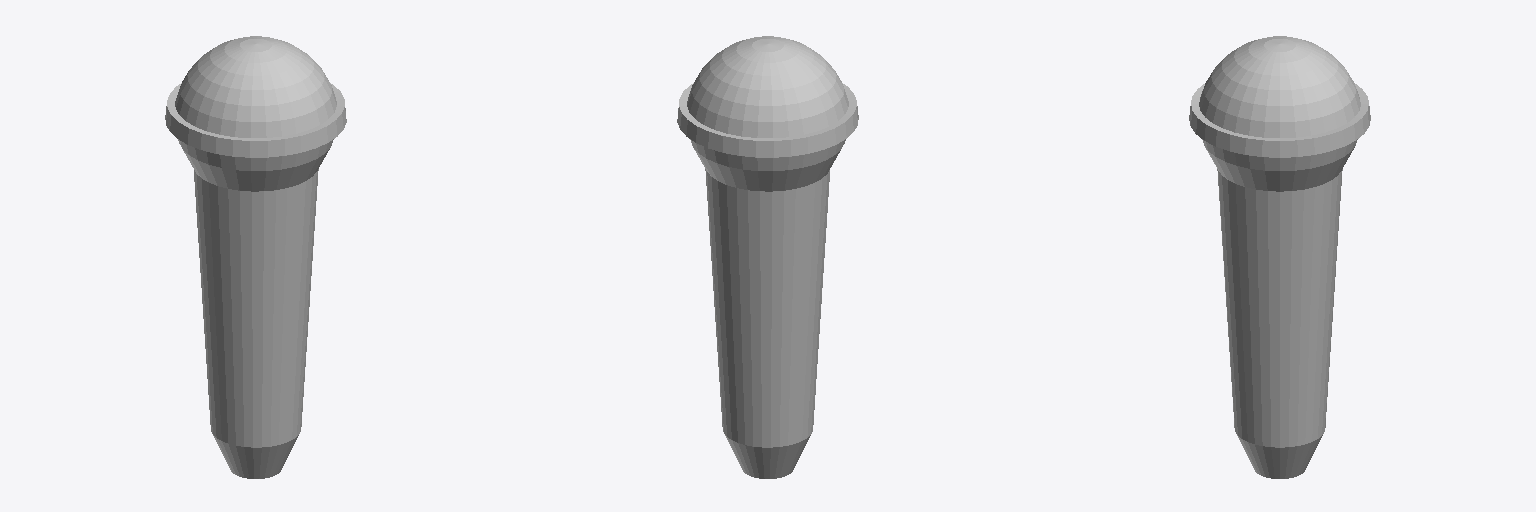
File: microphone.obj
3 renders of one model, left to right at view 1: azimuth 30°, elevation 25°; view 2: azimuth 150°, elevation 25°; view 3: azimuth 270°, elevation 25°, orthographic.
Parts seen in each view (by area): view 1: Sphere; view 2: Sphere; view 3: Sphere.
Boxes of the visible parts, box(x1,y1,x2,y2) form: Sphere: box(165, 36, 346, 478); Sphere: box(677, 36, 858, 478); Sphere: box(1189, 36, 1370, 478).
Bounding box in the file's own units: 2.2 × 5.66 × 2.2.